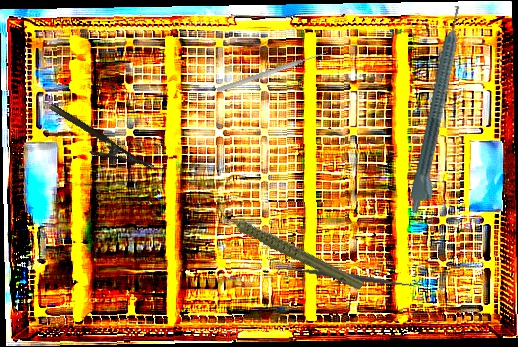Handpiece: (215, 177, 366, 318), (406, 4, 475, 217)
Needle Holder: (40, 102, 155, 186)
Pusher: (216, 49, 329, 94)
Spatula Surgical: (276, 259, 421, 294)
